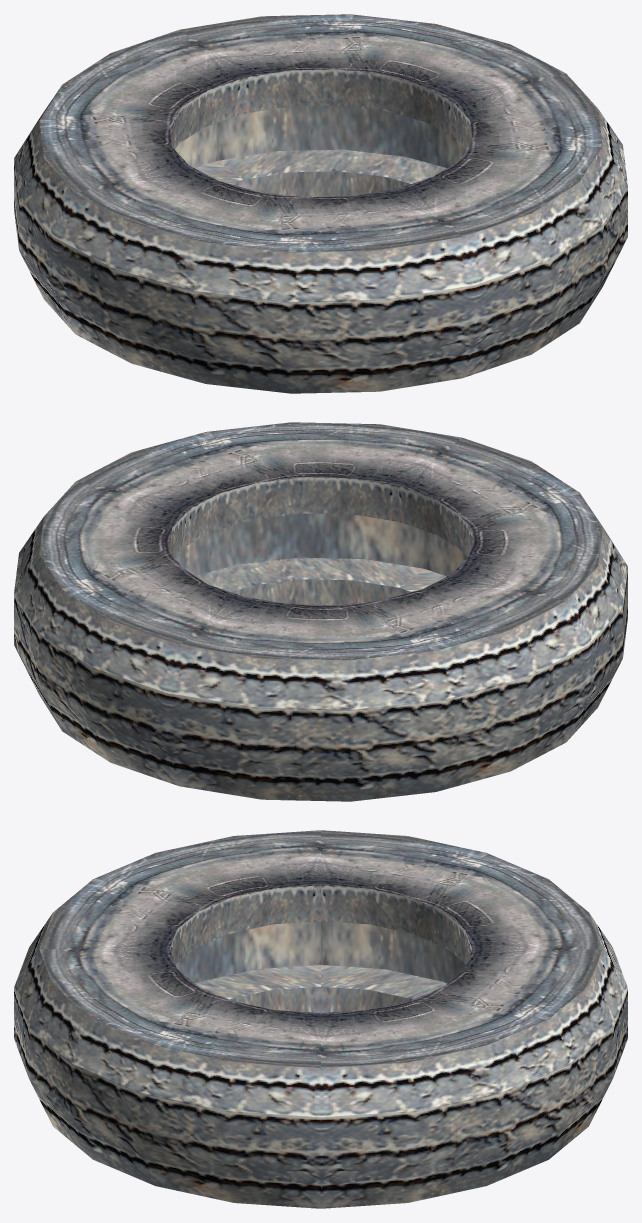
File: tire_01.fbx
The picture shows the model from 3 angles, top to bottom: view 1: azimuth 30°, elevation 25°; view 2: azimuth 150°, elevation 25°; view 3: azimuth 270°, elevation 25°; orthographic projection.
Visible parts, largest first — view 1: tire_01; view 2: tire_01; view 3: tire_01.
Part boxes in pixels (x1,y1,x2,y2): tire_01: (14, 14, 627, 393); tire_01: (14, 422, 627, 801); tire_01: (14, 830, 627, 1208).
Bounding box in the file's own units: 0.8609 × 0.2174 × 0.8609.
